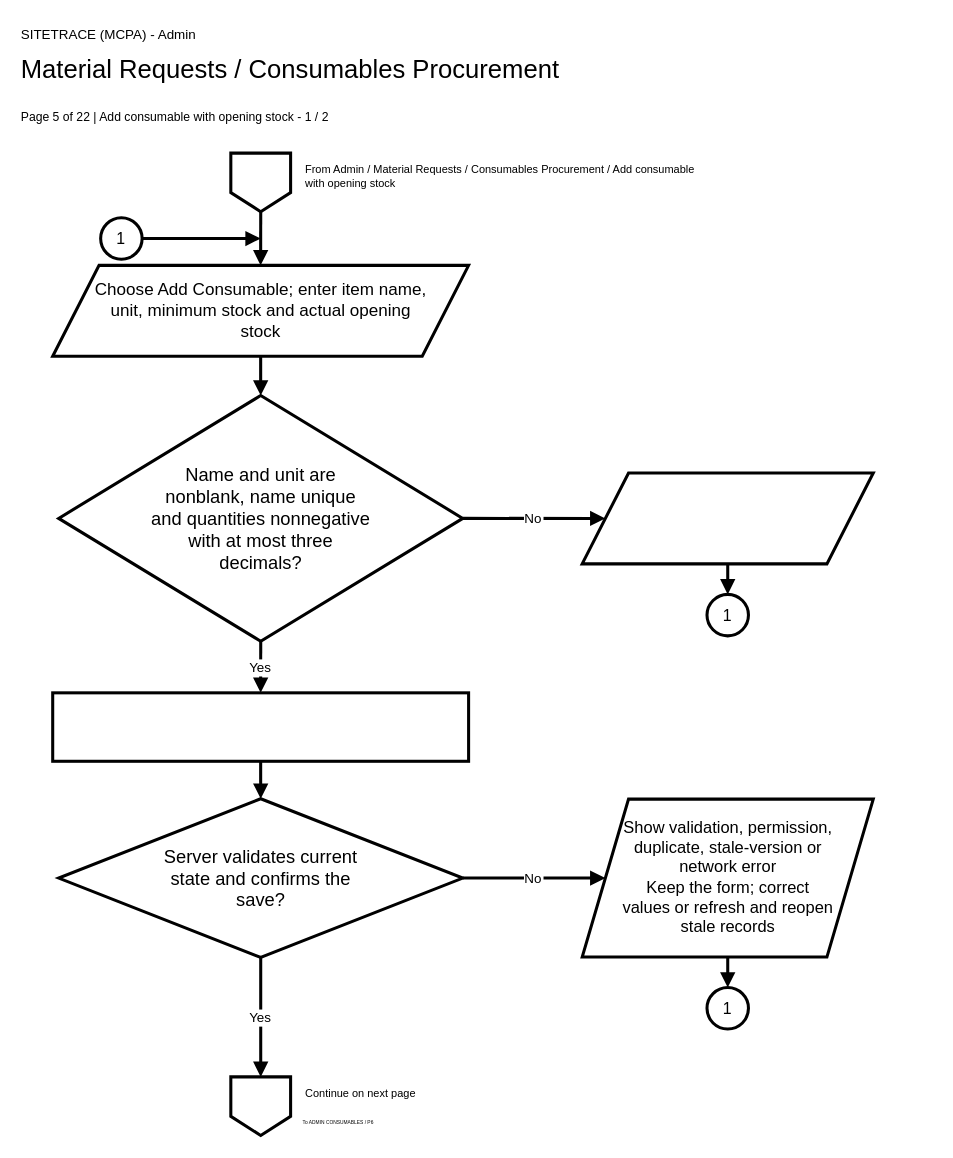
Some shapes in this 953 by 1158 pixel diagram are drawn without their labels. Here are the shapes that lost their labels. From the top down, the centre of each, then its label:
the point at 260,182: DF
the point at 727,518: Display required / duplicate-name / quantity error; correct the form
the point at 260,726: Submit consumables_save_item; disable form controls while saving
the point at 260,1105: DR
